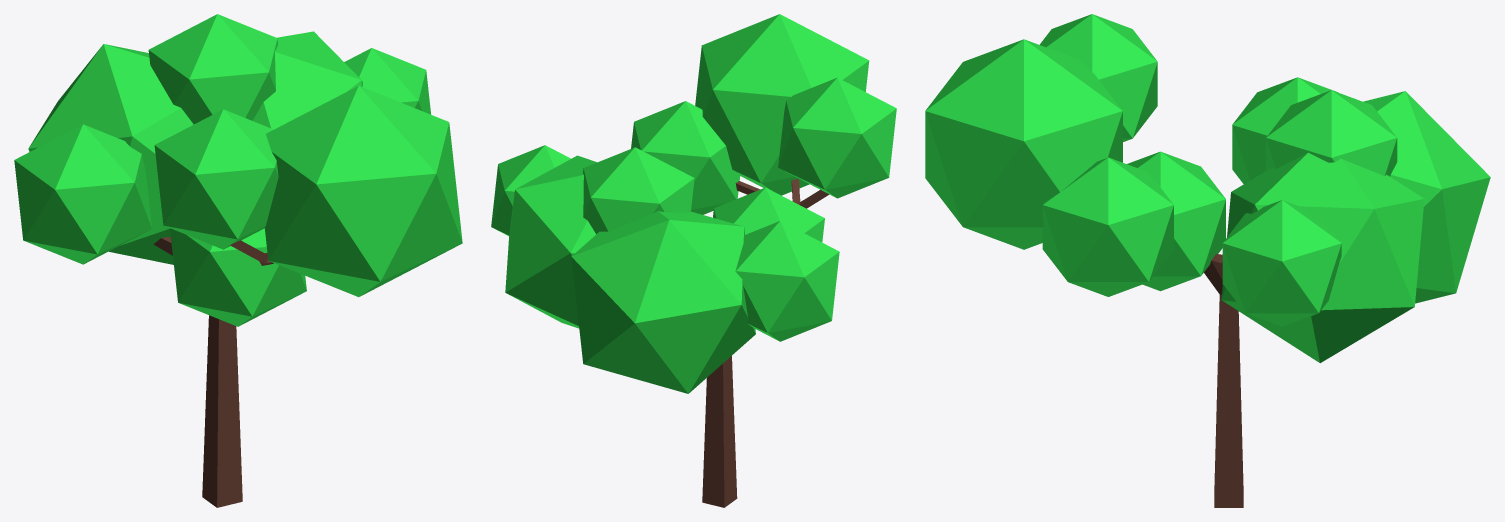
The model's file is Tree3.glb.
3 renders of one model, left to right at view 1: azimuth 30°, elevation 25°; view 2: azimuth 150°, elevation 25°; view 3: azimuth 270°, elevation 25°, orthographic. The views are drawn at different scales.
Visible parts, largest first — view 1: Icosphere.003, Icosphere.007, Icosphere.002, Icosphere, Icosphere.001, Icosphere.008, Cube, Icosphere.005, Icosphere.006; view 2: Icosphere, Icosphere.003, Icosphere.002, Icosphere.005, Icosphere.007, Icosphere.001, Icosphere.004, Cube, Icosphere.008, Icosphere.006; view 3: Icosphere.003, Icosphere.005, Icosphere.004, Icosphere, Icosphere.006, Icosphere.001, Icosphere.002, Icosphere.008, Cube, Icosphere.007.
Part boxes in pixels (x1,y1,x2,y2): Icosphere.003: (264, 85, 462, 297); Icosphere.007: (14, 124, 151, 264); Icosphere.002: (154, 109, 278, 249); Icosphere: (28, 44, 193, 264); Icosphere.001: (148, 14, 278, 124); Icosphere.008: (170, 228, 306, 326); Cube: (153, 236, 273, 507); Icosphere.005: (252, 31, 362, 129); Icosphere.006: (344, 48, 430, 114); Icosphere: (571, 211, 755, 393); Icosphere.003: (695, 14, 869, 195); Icosphere.002: (778, 77, 896, 198); Icosphere.005: (505, 155, 596, 328); Icosphere.007: (735, 221, 839, 341); Icosphere.001: (583, 147, 694, 234); Icosphere.004: (631, 101, 740, 214); Cube: (702, 178, 829, 507); Icosphere.008: (713, 187, 824, 242); Icosphere.006: (491, 145, 570, 235); Icosphere.003: (925, 39, 1122, 249); Icosphere.005: (1221, 152, 1424, 363); Icosphere.004: (1042, 157, 1173, 296); Icosphere: (1363, 91, 1490, 303); Icosphere.006: (1222, 200, 1341, 326); Icosphere.001: (1266, 90, 1397, 176); Icosphere.002: (1039, 14, 1157, 141); Icosphere.008: (1127, 151, 1225, 291); Cube: (1204, 254, 1243, 507); Icosphere.007: (1232, 77, 1337, 183).
Bounding box in the file's own units: 13.12 × 15.25 × 16.34.
